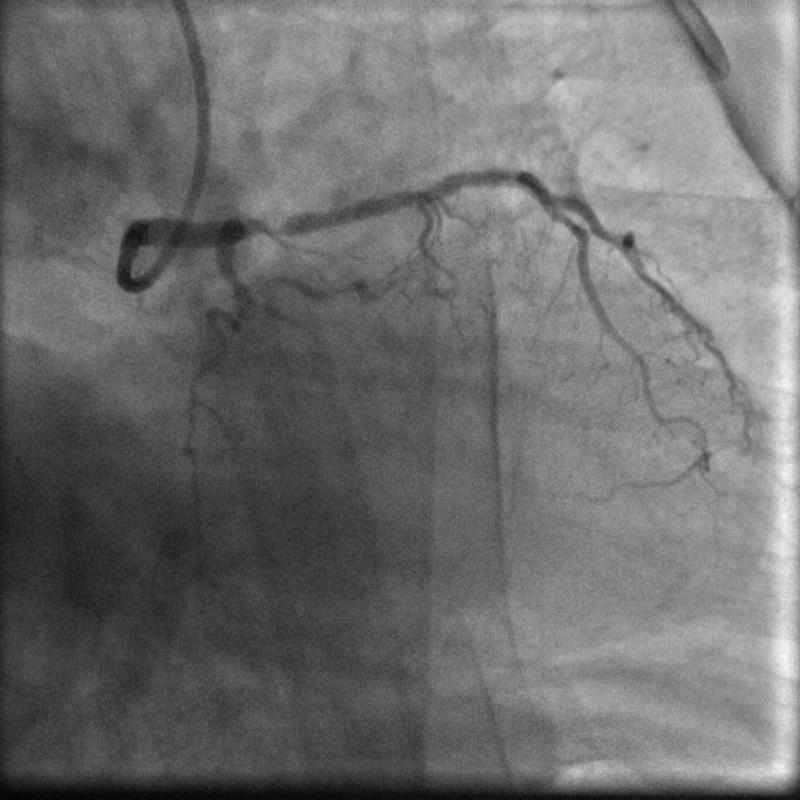Stenosis: (234, 209, 300, 239)
